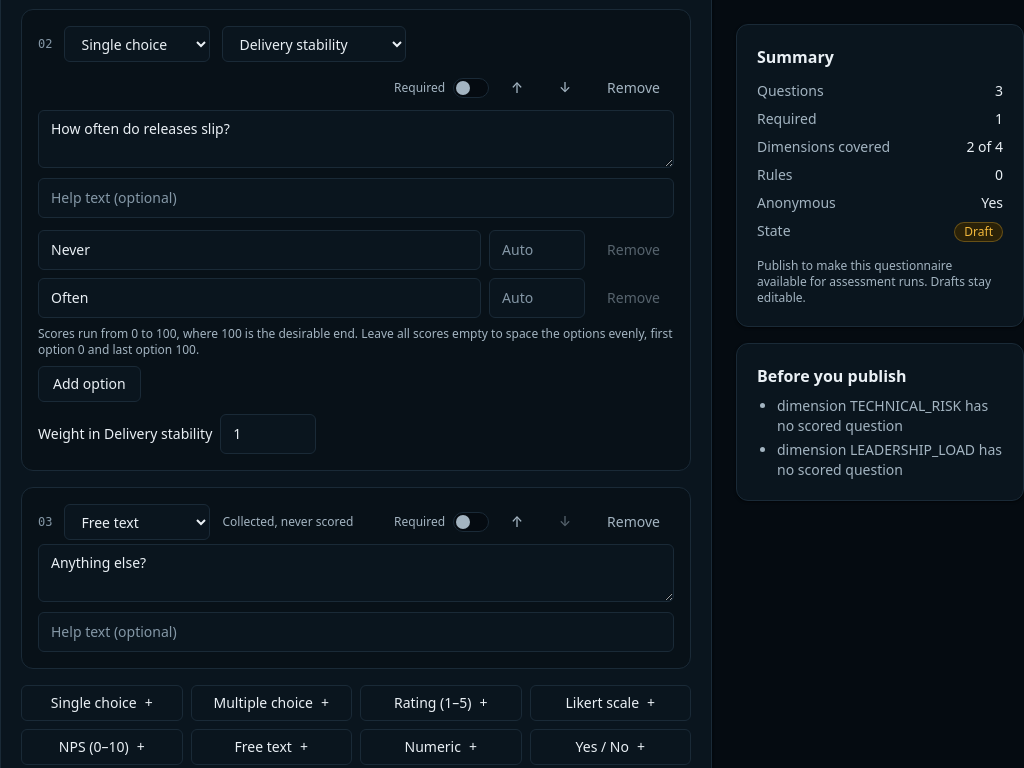
Test case: BuilderPage: editing › adds and removes options of a choice question, keeping at least two
(page scrolled)
Step 1. Click the button "Add option" → click(89, 384), box x1=38 y1=366 x2=141 y2=402
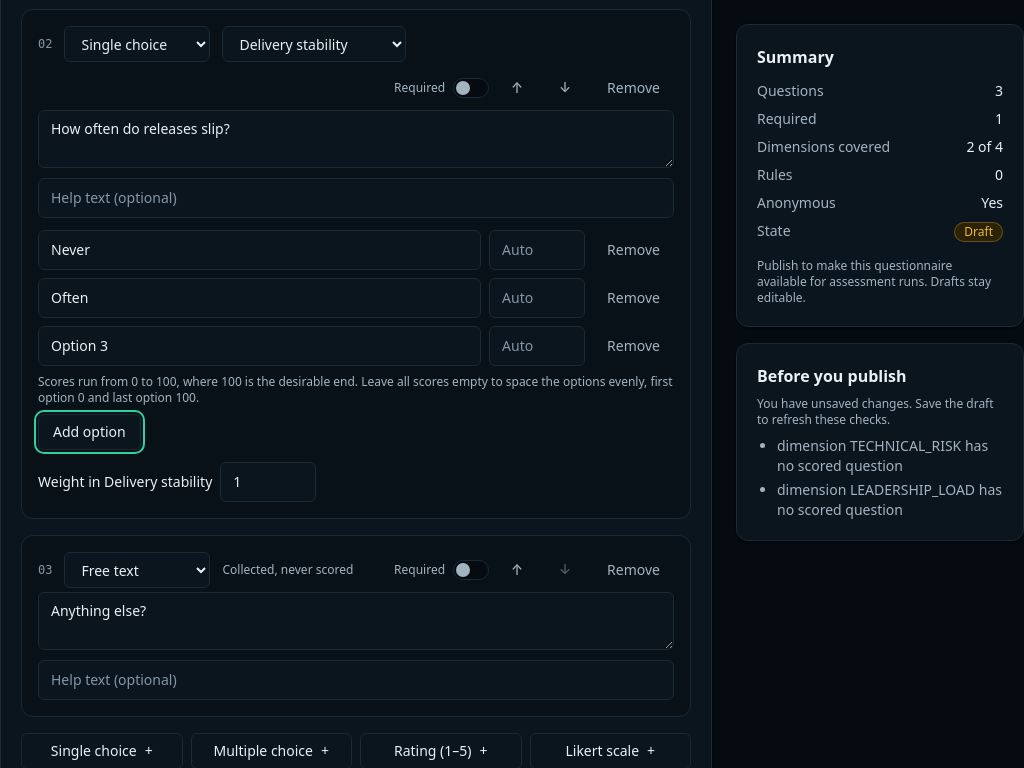
Step 2. Click the button with aria-label "Remove option 3 of Question 2" → click(634, 346), box x1=593 y1=328 x2=674 y2=364
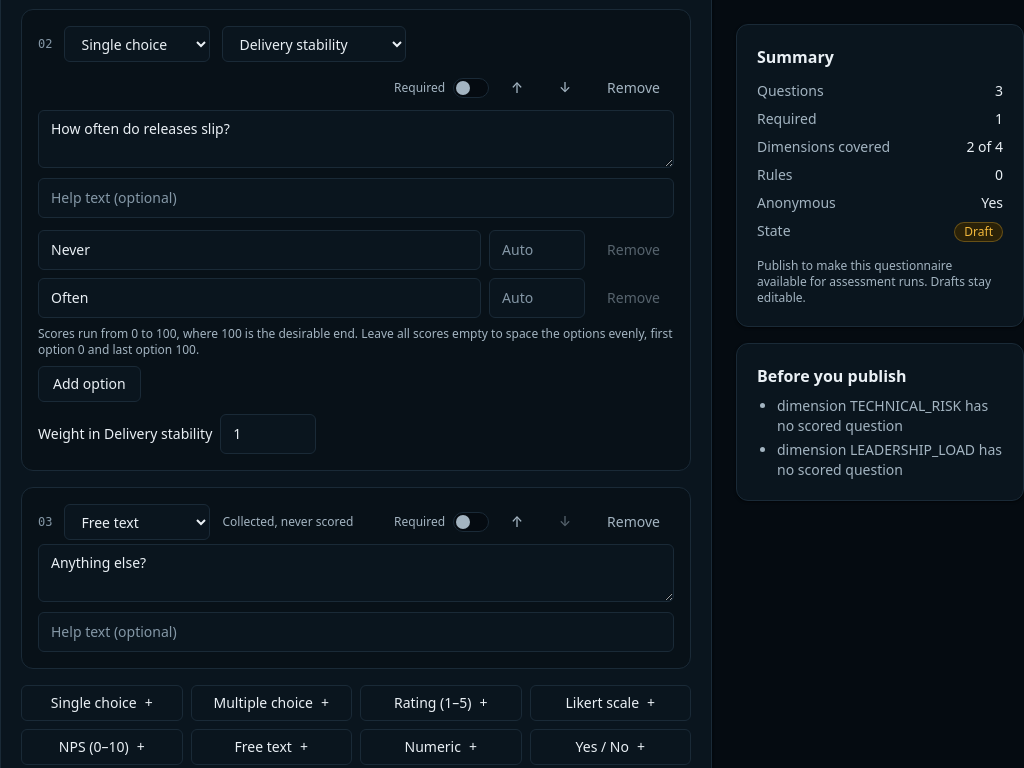
expect the button with aria-label "Remove option 1 of Question 2" is disabled: met, box x1=593 y1=232 x2=674 y2=268
